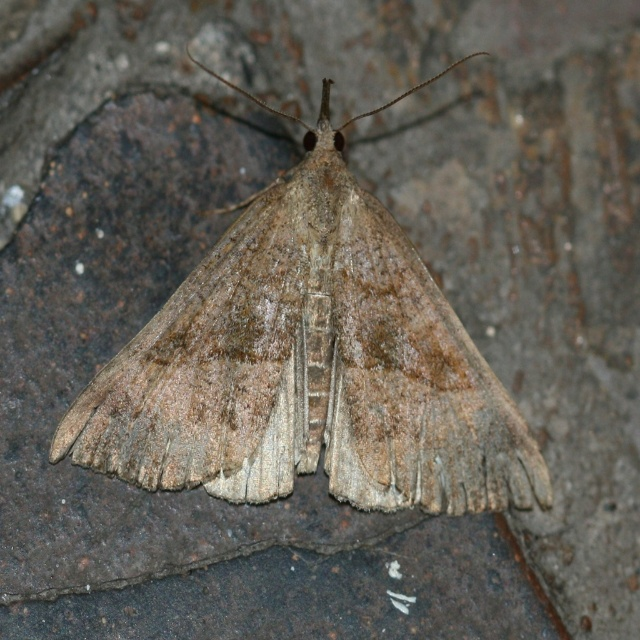Moths and butterflies: (46, 37, 558, 515)
